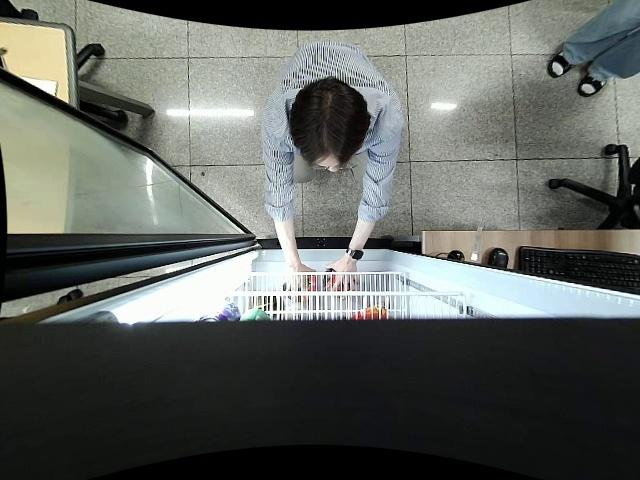00_hand: (325, 261, 360, 298), (281, 265, 316, 300)
